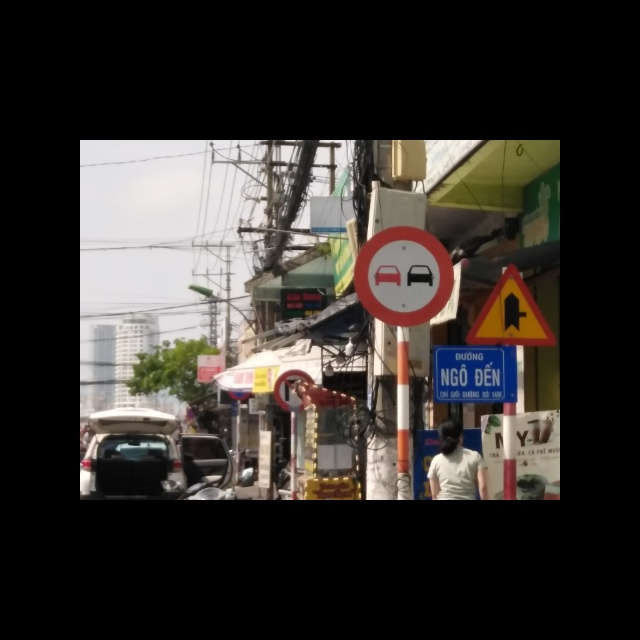Cấm vượt: (352, 225, 455, 328)
Giao nhau với đường không ưu tiên: (468, 263, 559, 349)
